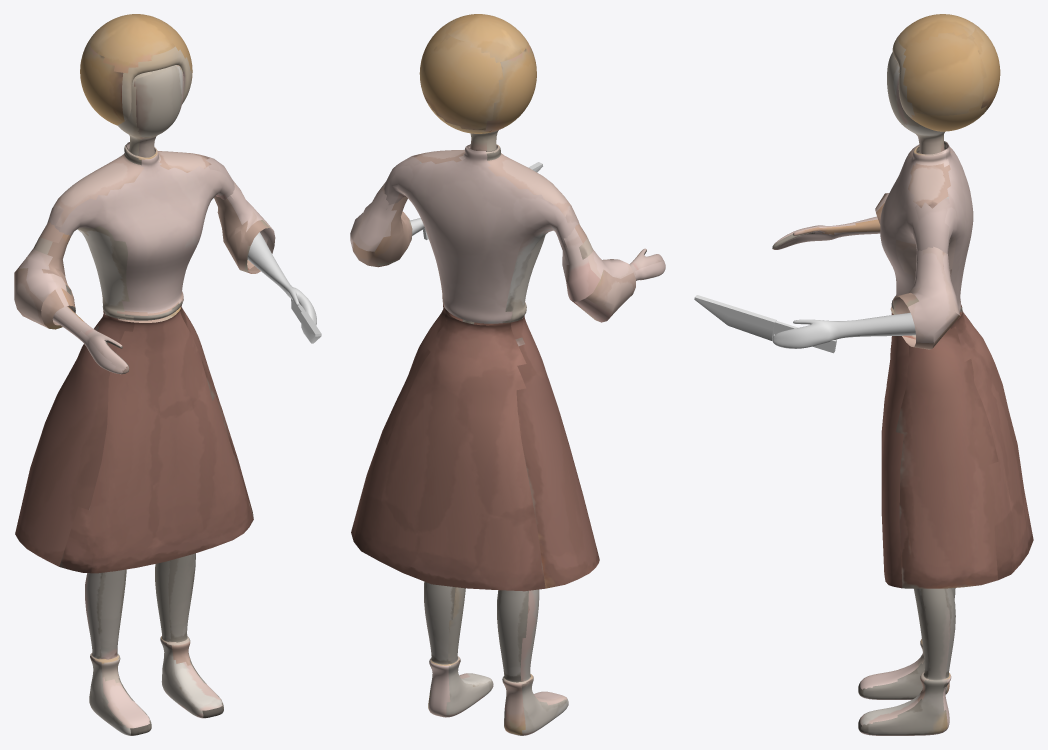
The model's file is motHer_UV.fbx.
3 renders of one model, left to right at view 1: azimuth 30°, elevation 25°; view 2: azimuth 150°, elevation 25°; view 3: azimuth 270°, elevation 25°, orthographic. The views are drawn at different scales.
Visible parts, largest first — view 1: mother, hand_left, knife; view 2: mother; view 3: mother, hand_left, knife.
Boxes of the visible parts, left/top/right/bottom form: mother: left=14, top=14, right=275, bottom=735; hand_left: left=247, top=232, right=316, bottom=325; knife: left=291, top=299, right=321, bottom=343; mother: left=350, top=14, right=665, bottom=735; mother: left=772, top=14, right=1033, bottom=735; hand_left: left=772, top=312, right=915, bottom=348; knife: left=694, top=295, right=836, bottom=353.
Size of the model in its own units: 67.48 by 173 by 76.51.
